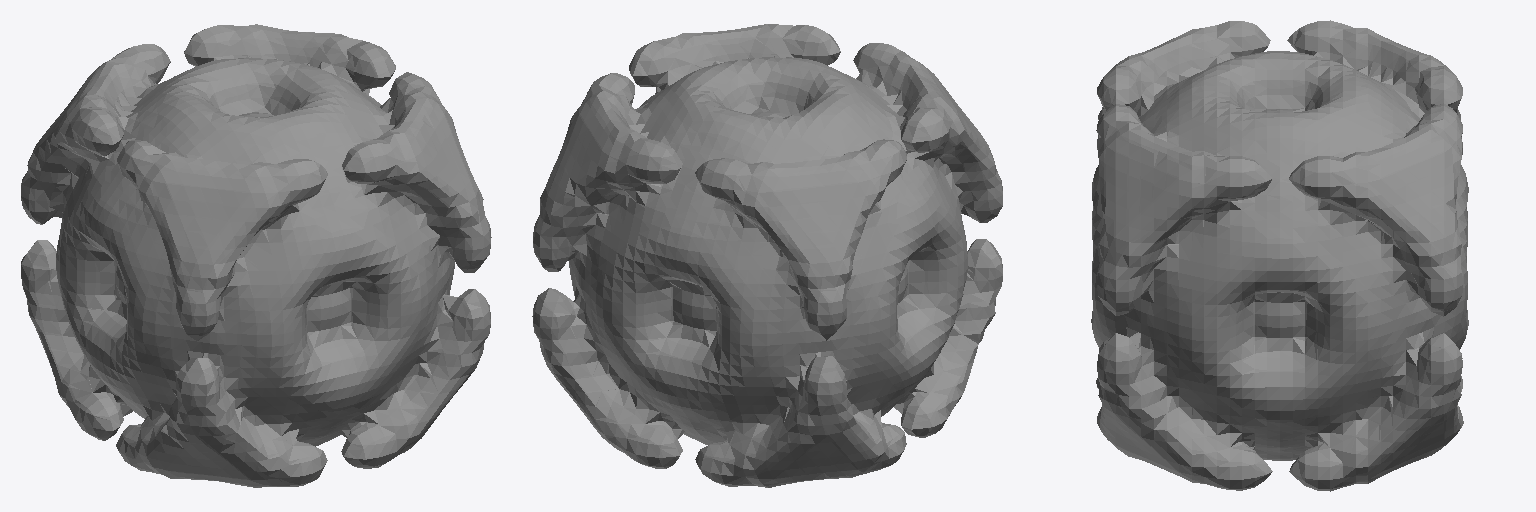
URDF robot description (cube.urdf):
<?xml version="0.0" ?> 
<robot name="cube.urdf"> 
<link name="legobrick"> 
<contact> 
<lateral_friction value="5.0"/> 
<rolling_friction value="0.0"/> 
<contact_cfm value="0.0"/> 
<contact_erp value="1.0"/> 
</contact> 
<inertial> 
<origin rpy="0 0 0" xyz="0.0 0.0 0.0"/> 
<mass value=".01"/> 
<inertia ixx="1" ixy="0" ixz="0" iyy="1" iyz="0" izz="1"/> 
</inertial> 
<visual> 
<origin rpy="1.570796 0 0" xyz="-0.02595605335782834 0.025966673135686014 -0.025997451428656927"/> 
<geometry> 
<mesh filename="B23_0.obj" scale="0.0006990923840873181 0.0006990923840873181 0.0006990923840873181"/> 
</geometry> 
<material name="yellow"> 
<color rgba="0.6 0.6 0.6 1"/> 
</material> 
</visual> 
<collision> 
<origin rpy="1.570796 0 0" xyz="-0.02595605335782834 0.025966673135686014 -0.025997451428656927"/> 
<geometry> 
<mesh filename="B23_0.obj" scale="0.0006990923840873181 0.0006990923840873181 0.0006990923840873181"/> 
</geometry> 
</collision> 
</link> 
</robot>

--- Render facts (derived) ---
The picture shows the robot from 3 angles, left to right: view 1: azimuth 30°, elevation 25°; view 2: azimuth 150°, elevation 25°; view 3: azimuth 270°, elevation 25°; orthographic projection.
Robot: cube.urdf — 1 links, 0 joints (none); root link legobrick; default pose: all joints at 0.
Visible links, largest first — view 1: legobrick; view 2: legobrick; view 3: legobrick.
Boxes of the visible links, box(x1,y1,x2,y2) form: legobrick: box(21, 24, 491, 487); legobrick: box(532, 24, 1002, 487); legobrick: box(1091, 20, 1468, 491).
Bounding box of the posed robot: 0.056 × 0.056 × 0.0559 m (x, y, z).
Meshes: 1 distinct files referenced, 1 mesh visuals loaded (1 OBJ).
